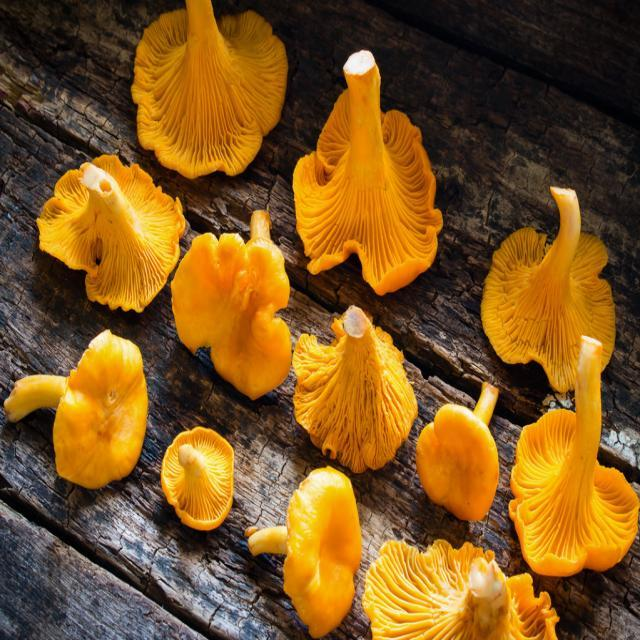Cantharellus cibarius: (294, 51, 442, 289), (516, 341, 640, 577), (131, 0, 285, 175), (483, 185, 614, 387), (35, 152, 186, 311), (174, 211, 291, 399), (7, 340, 146, 488), (295, 307, 416, 469), (367, 538, 561, 639), (246, 467, 358, 629), (421, 377, 502, 526), (165, 428, 233, 530)
